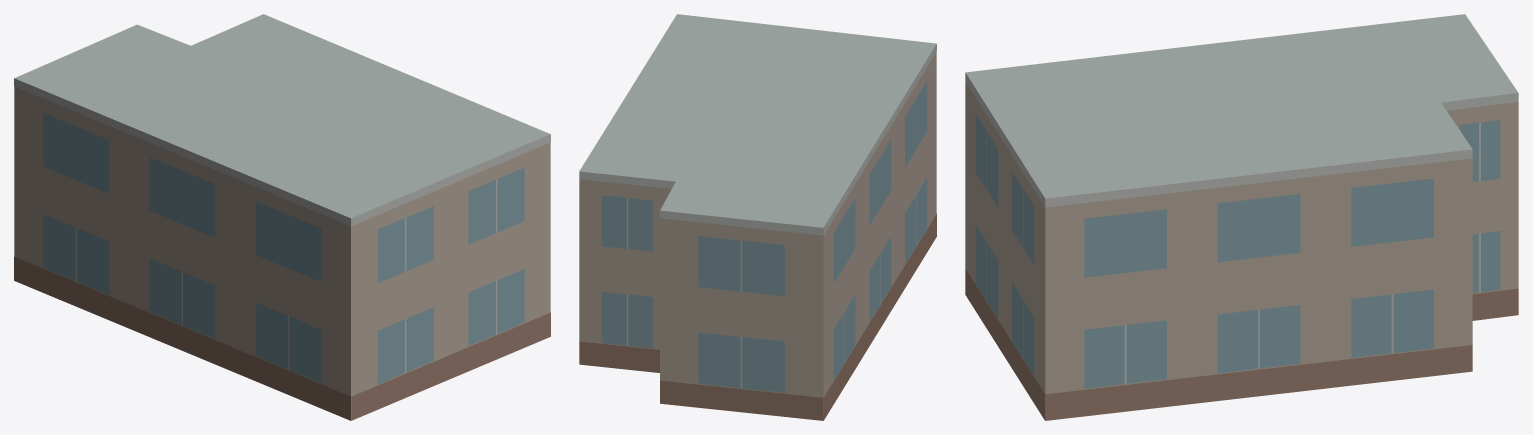
The model's file is survey-upis-33023411.glb.
3 views of the same model, side by side, from view 1: azimuth 30°, elevation 25°; view 2: azimuth 150°, elevation 25°; view 3: azimuth 270°, elevation 25° (orthographic). The views are drawn at different scales.
Visible parts, largest first — view 1: survey-upis-33023411.tmp; view 2: survey-upis-33023411.tmp; view 3: survey-upis-33023411.tmp.
Boxes of the visible parts, x1,y1,x2,y2 form: survey-upis-33023411.tmp: [14, 14, 550, 420]; survey-upis-33023411.tmp: [579, 14, 936, 420]; survey-upis-33023411.tmp: [965, 14, 1518, 420].
Bounding box in the file's own units: 10.89 × 6.1 × 13.78.
